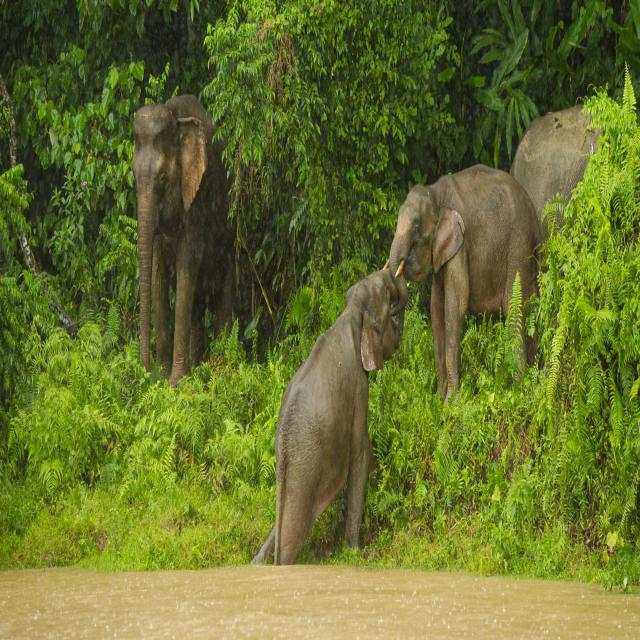Elephant: (266, 262, 400, 584), (390, 155, 544, 382), (128, 89, 232, 377), (515, 97, 614, 302)
